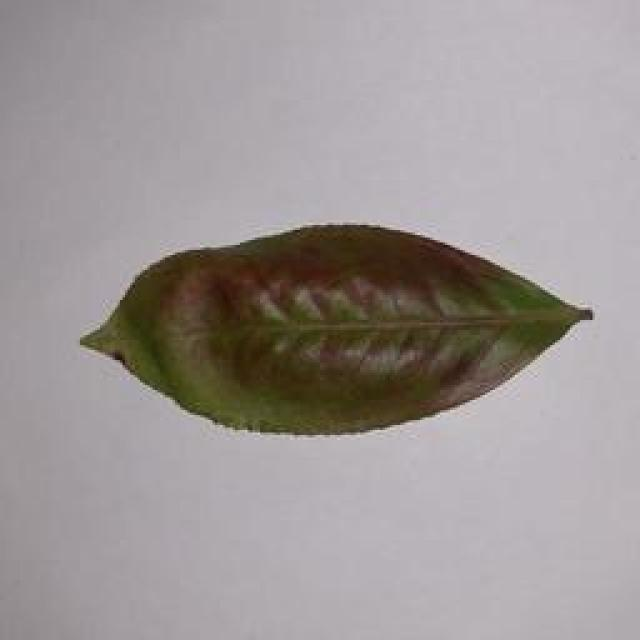Red Leaf Spot: (45, 204, 602, 434)
